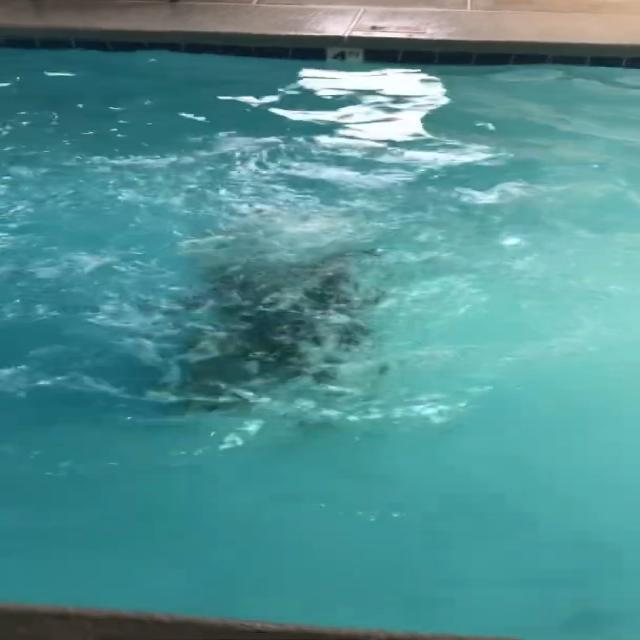Drowning: (186, 243, 376, 415)
